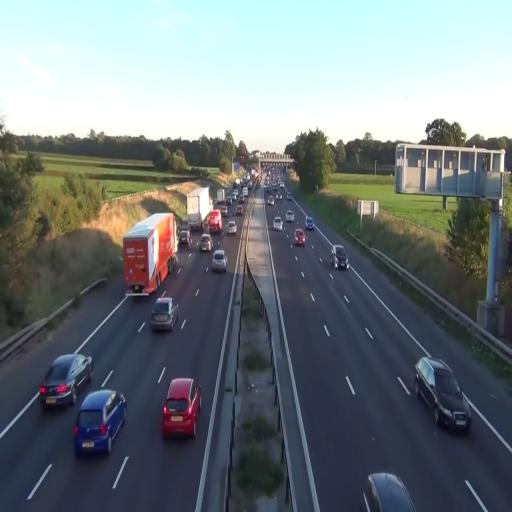vehicle: (122, 211, 178, 297), (415, 356, 471, 434), (73, 388, 127, 458), (38, 351, 94, 409), (162, 376, 202, 439), (364, 470, 418, 511), (38, 354, 77, 409), (151, 296, 178, 334), (330, 245, 349, 271), (211, 249, 227, 273), (198, 232, 212, 253), (178, 228, 191, 249), (294, 228, 306, 246), (272, 216, 284, 231), (226, 220, 236, 235), (305, 219, 314, 230)
